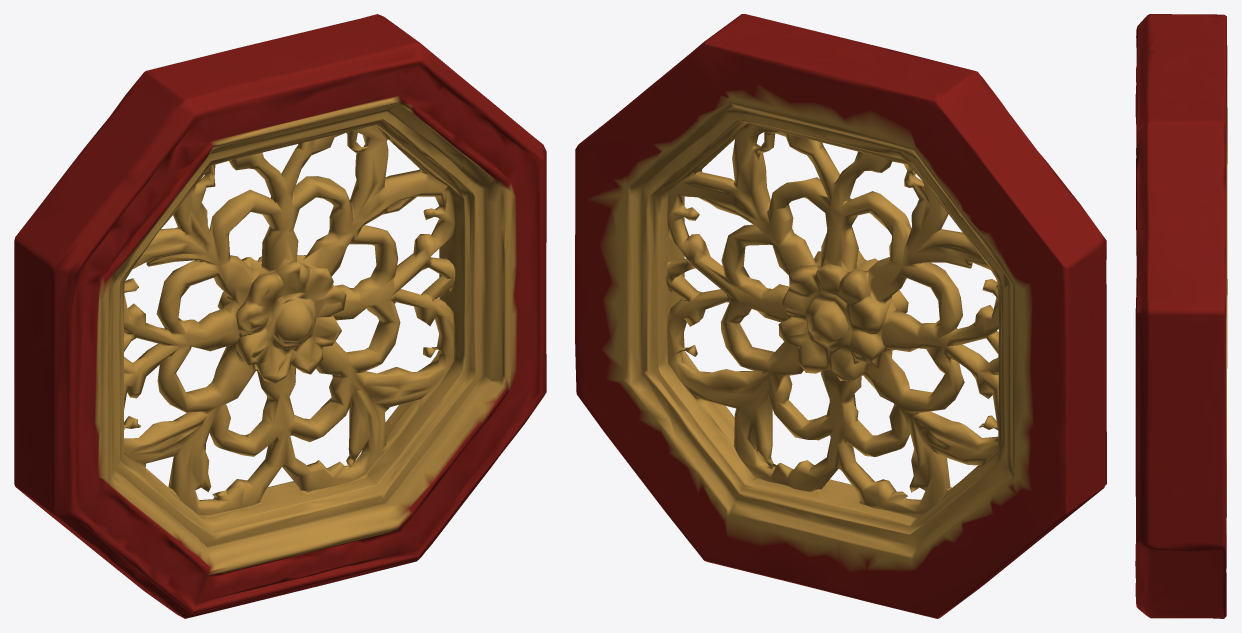
File: huachuang.glb
The picture shows the model from 3 angles, left to right: view 1: azimuth 30°, elevation 25°; view 2: azimuth 150°, elevation 25°; view 3: azimuth 270°, elevation 25°; orthographic projection. The views are drawn at different scales.
Bounding box in the file's own units: 0.1765 × 0.1778 × 0.0298.
